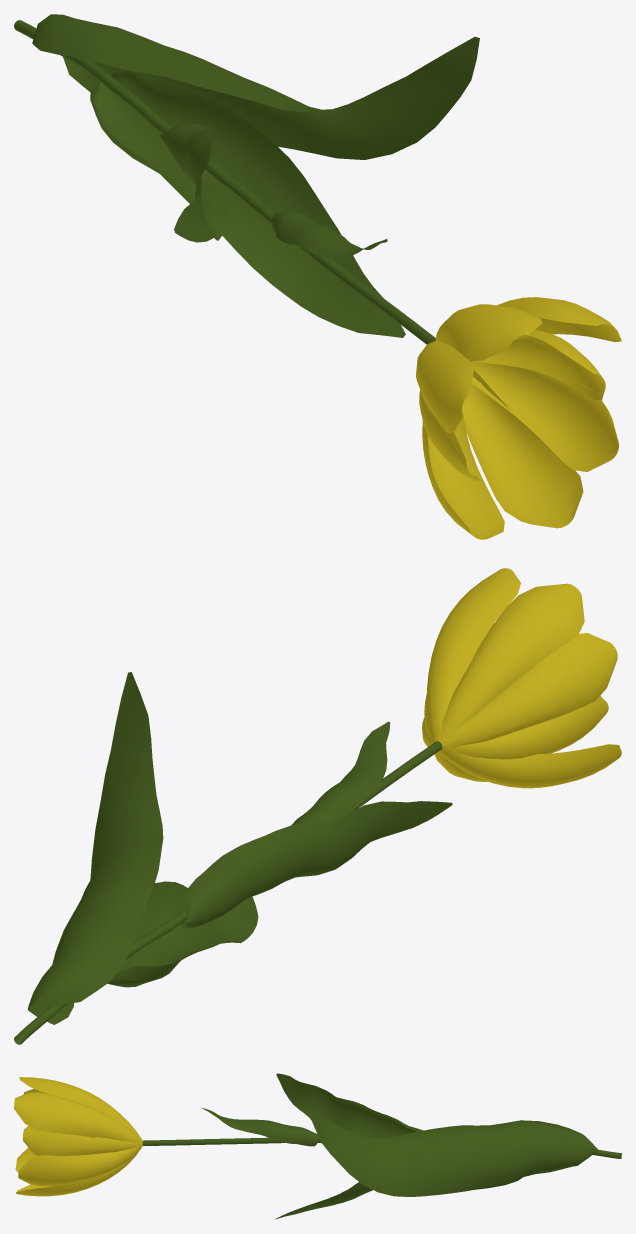
The model's file is Tulpen_mid.dae.
3 views of the same model, one above another, from view 1: azimuth 30°, elevation 25°; view 2: azimuth 150°, elevation 25°; view 3: azimuth 270°, elevation 25° (orthographic). The views are drawn at different scales.
Parts seen in each view (by area): view 1: tulips3Leaf, tulips3Flower, tulips3Main; view 2: tulips3Leaf, tulips3Flower, tulips3Main; view 3: tulips3Leaf, tulips3Flower, tulips3Main.
Part boxes in pixels (left/top/right/bottom): tulips3Leaf: left=32, top=14, right=479, bottom=337; tulips3Flower: left=415, top=297, right=621, bottom=539; tulips3Main: left=14, top=20, right=435, bottom=344; tulips3Leaf: left=27, top=672, right=452, bottom=1024; tulips3Flower: left=422, top=568, right=621, bottom=788; tulips3Main: left=14, top=741, right=442, bottom=1044; tulips3Leaf: left=201, top=1073, right=598, bottom=1219; tulips3Flower: left=14, top=1077, right=142, bottom=1196; tulips3Main: left=142, top=1137, right=621, bottom=1158.
Bounding box in the file's own units: 14.7 × 10.57 × 42.79.
